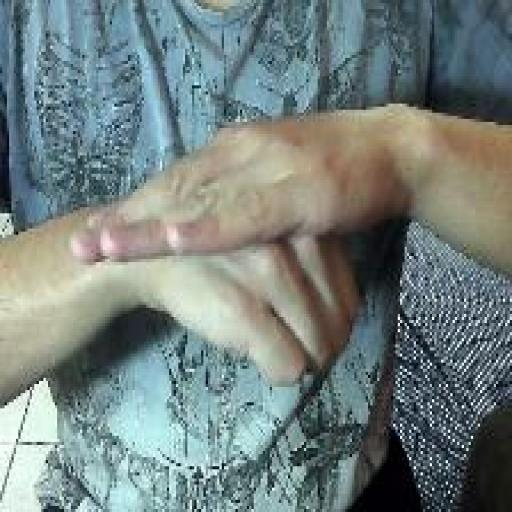Inu -dog-: (66, 111, 366, 392)
